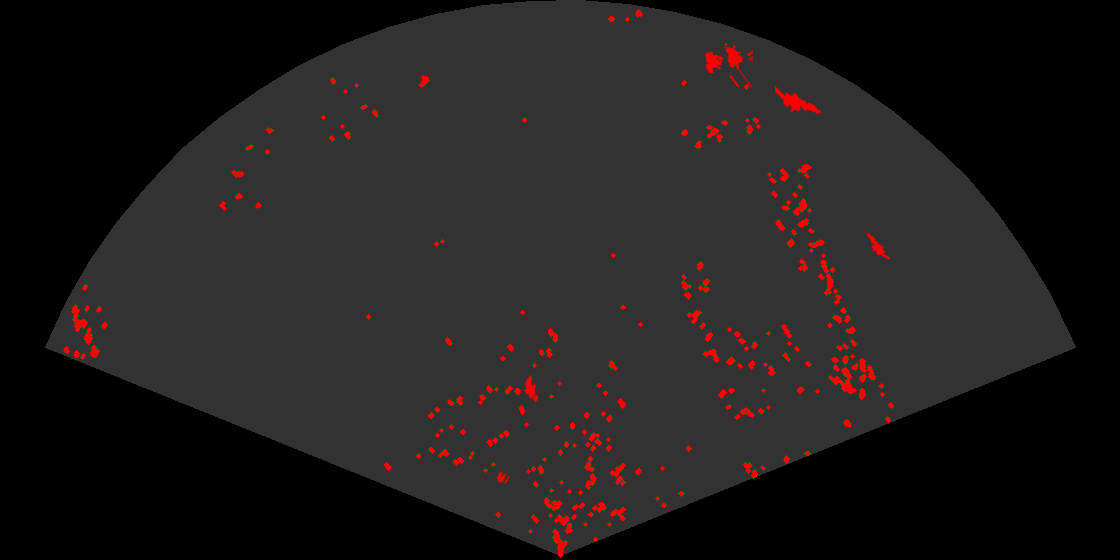AUV: (523, 373, 537, 400)
ball: (495, 470, 511, 486)
cage: (703, 41, 753, 87)
frogman: (775, 84, 823, 117), (861, 230, 890, 259)
